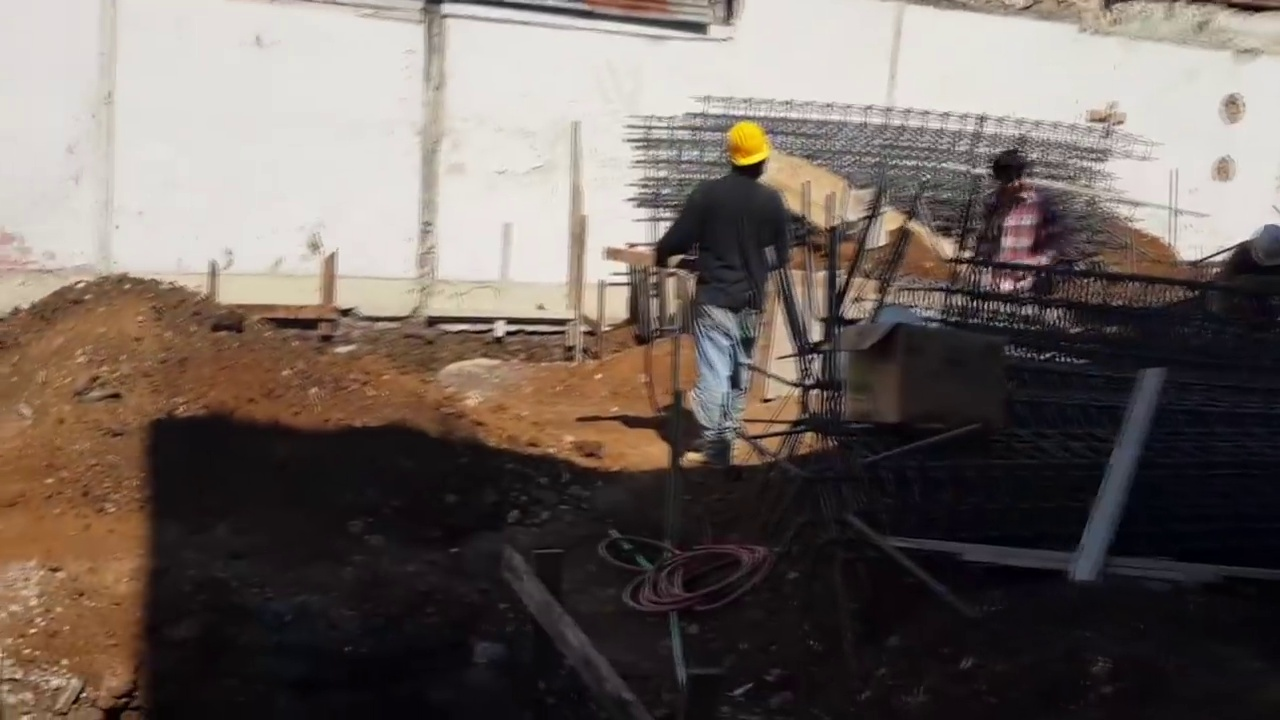helmet: (725, 122, 771, 167)
helmet-off: (989, 147, 1031, 194)
helmet-on: (724, 122, 768, 189)
person: (657, 122, 789, 464), (969, 147, 1066, 316)
